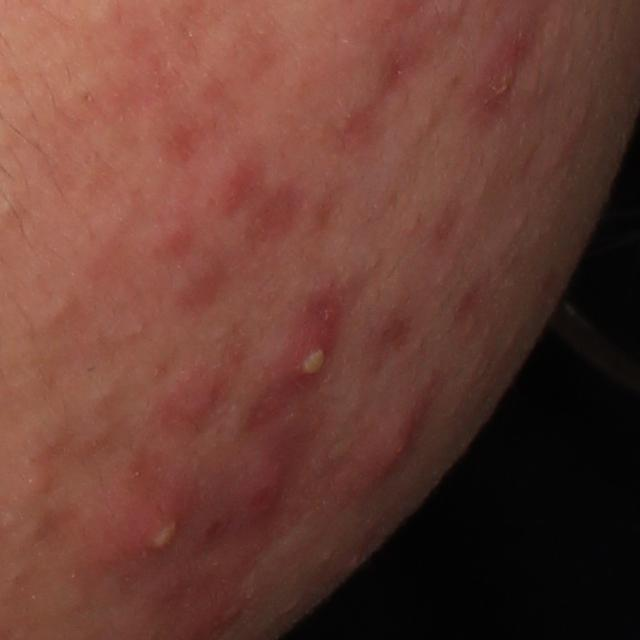comedo: (47, 289, 71, 320)
papule: (214, 440, 305, 553), (351, 393, 431, 496), (464, 15, 533, 123), (153, 362, 229, 460), (197, 131, 267, 223), (144, 204, 200, 274), (162, 251, 220, 318)
pustule: (241, 280, 340, 427), (118, 485, 195, 581)
